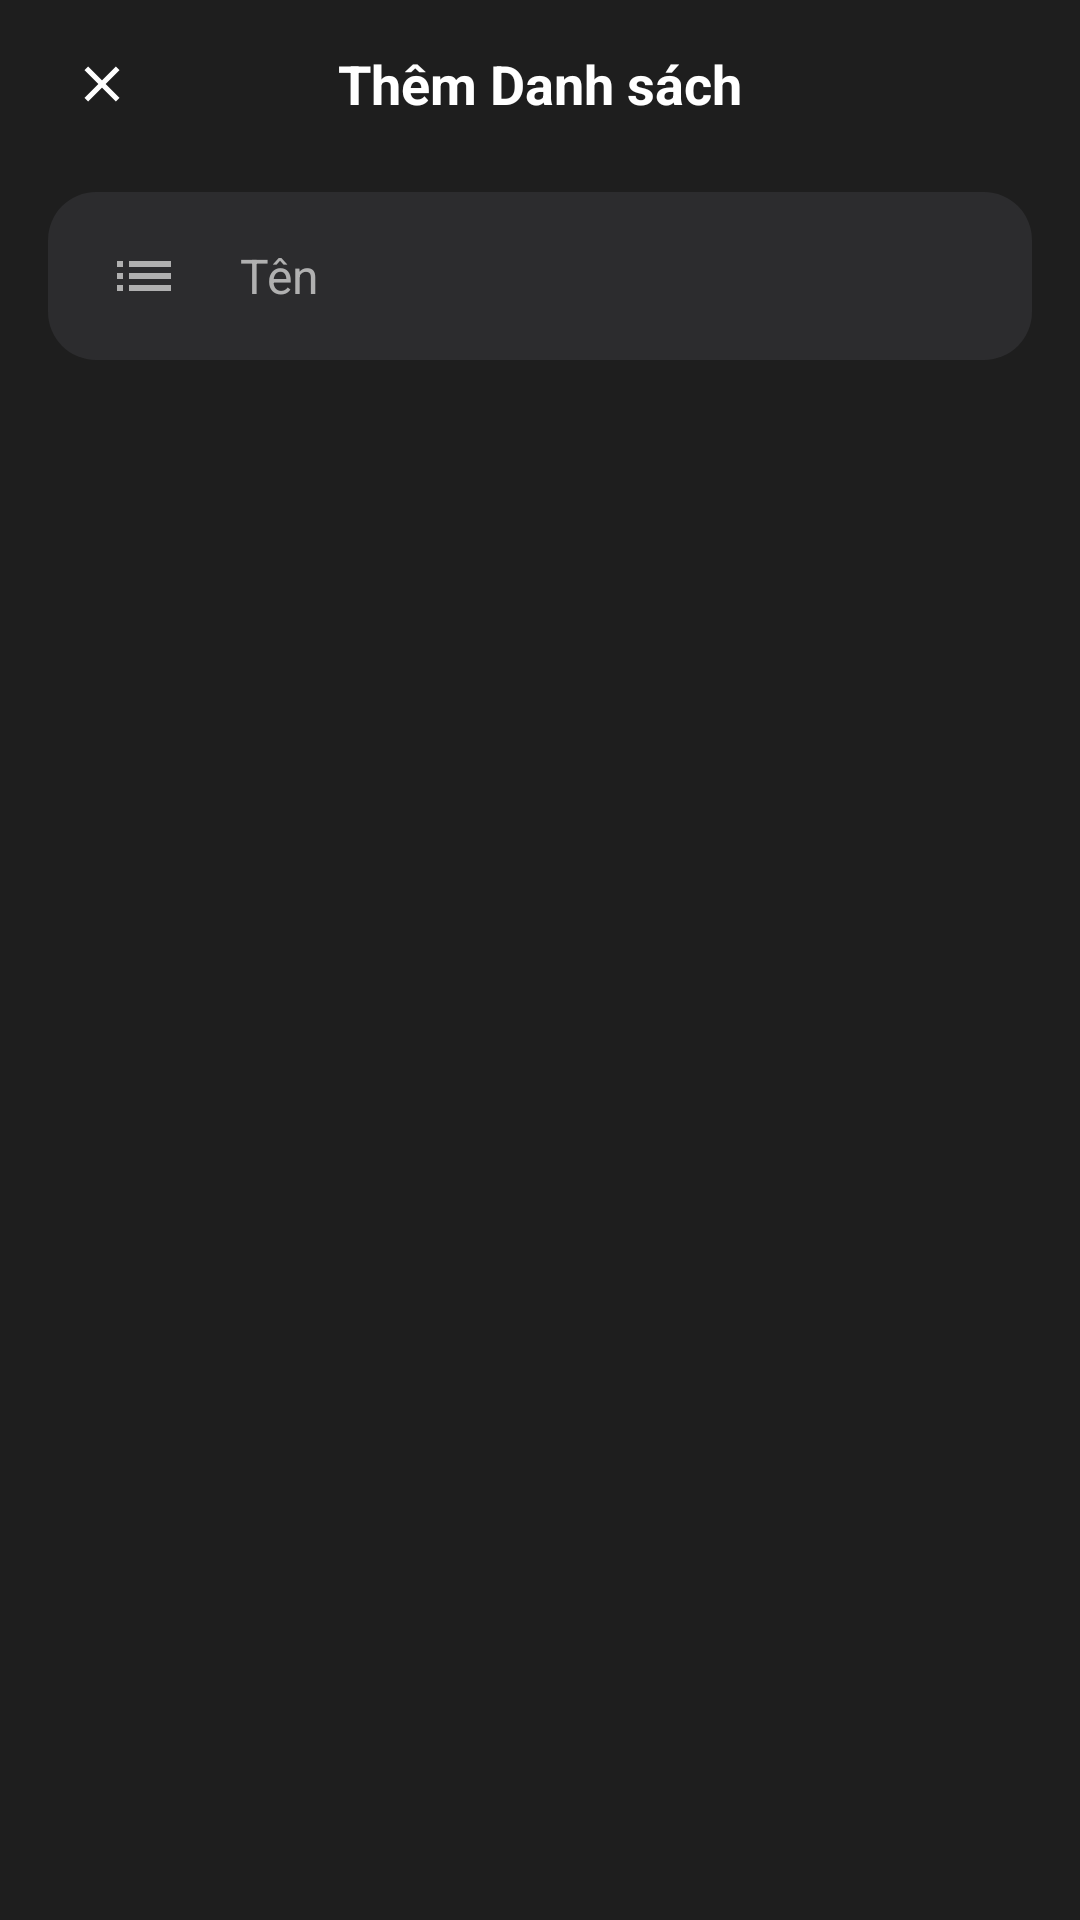

Locate icon controls on the screen. Image size 1080x1920, boxes as BBox(x1, y1, x2, y2).
close: BBox(84, 66, 120, 102)
list: BBox(117, 261, 171, 291)
